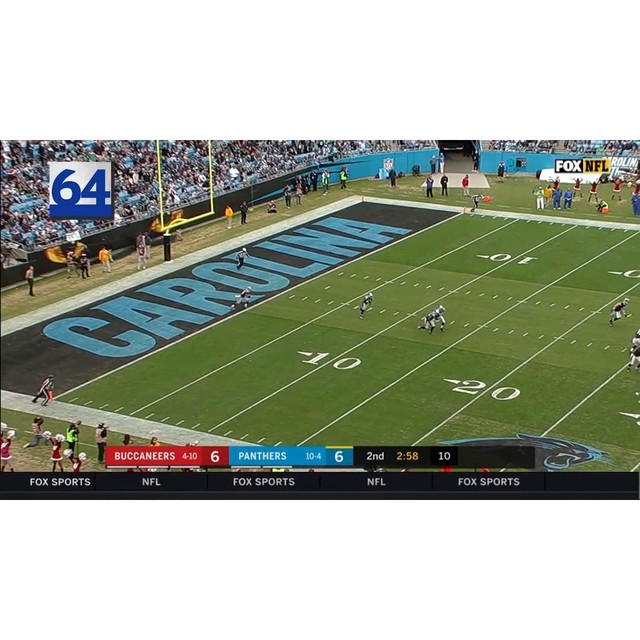american-football-player: (608, 299, 629, 327), (417, 308, 438, 334), (230, 286, 252, 310), (626, 342, 640, 374)
referee: (32, 375, 55, 406)
